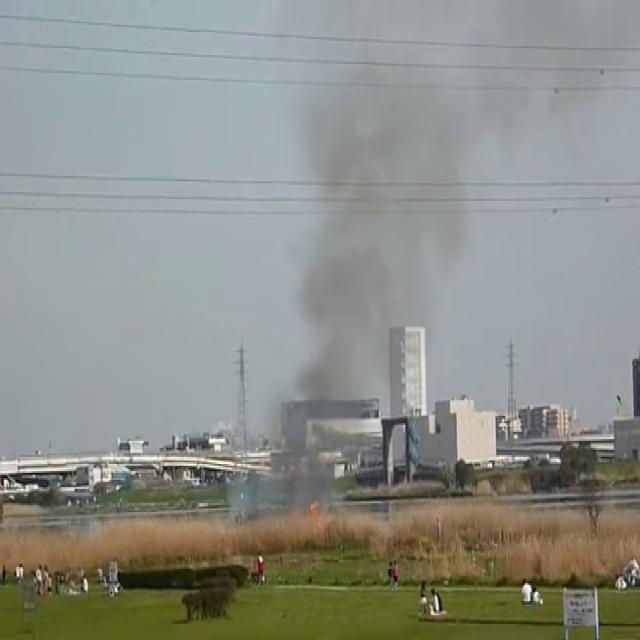Smoke: (237, 2, 627, 536)
